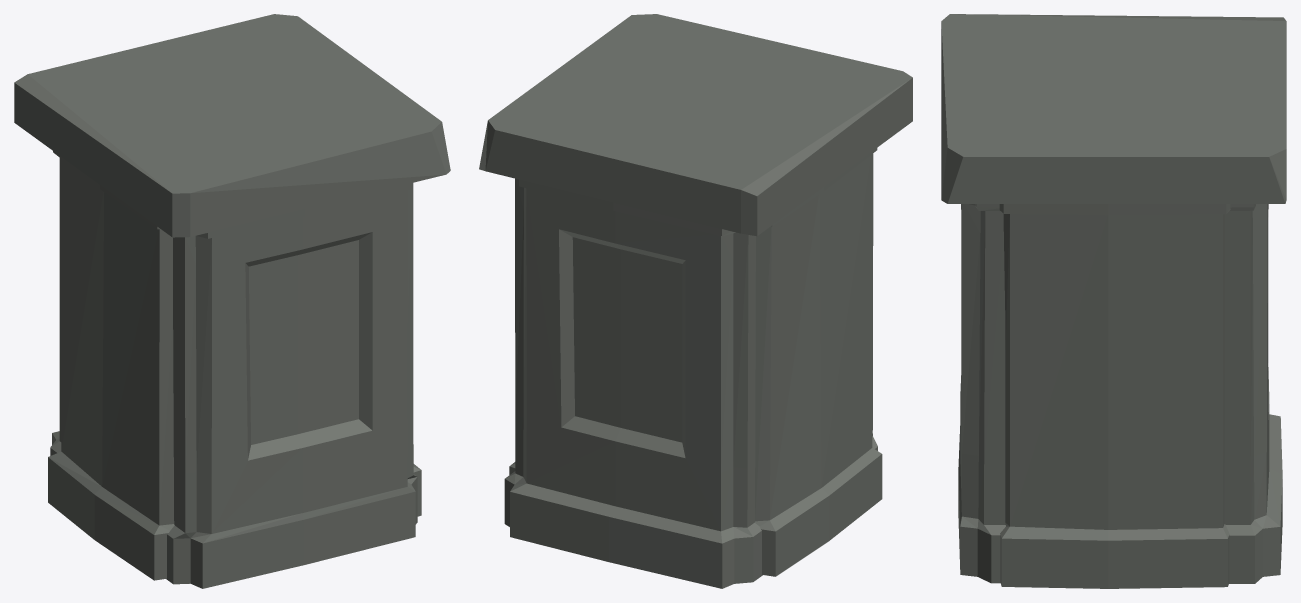
File: MCastle_Balusters_Column_02.FBX
The picture shows the model from 3 angles, left to right: view 1: azimuth 30°, elevation 25°; view 2: azimuth 150°, elevation 25°; view 3: azimuth 270°, elevation 25°; orthographic projection. The views are drawn at different scales.
Parts seen in each view (by area): view 1: MCastle_Balusters_Column_02_LOD0; view 2: MCastle_Balusters_Column_02_LOD0; view 3: MCastle_Balusters_Column_02_LOD0.
Boxes of the visible parts, x1,y1,x2,y2 form: MCastle_Balusters_Column_02_LOD0: [14, 14, 450, 588]; MCastle_Balusters_Column_02_LOD0: [479, 14, 912, 588]; MCastle_Balusters_Column_02_LOD0: [941, 14, 1286, 588].
Size of what is drawn, in the model's own units: 1.04 by 1.46 by 1.06.
